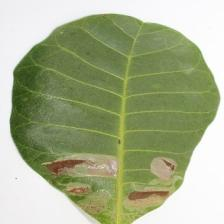leaf miner: (9, 12, 220, 223)
